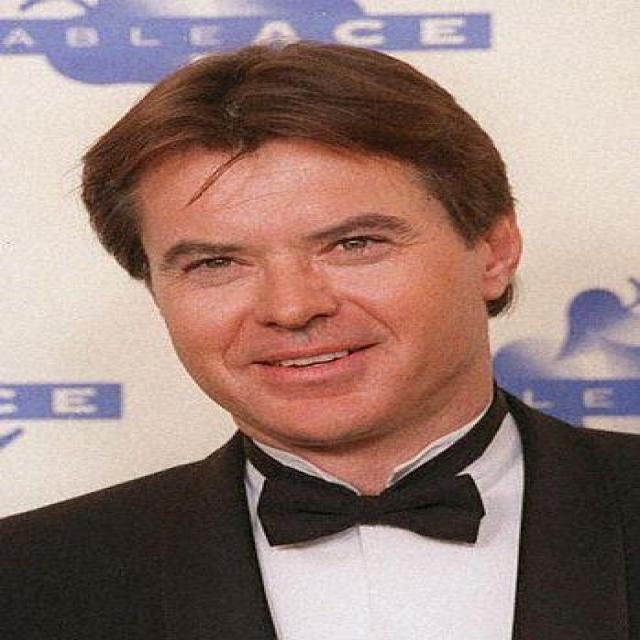0_rostro_limpio: (120, 80, 517, 451)
